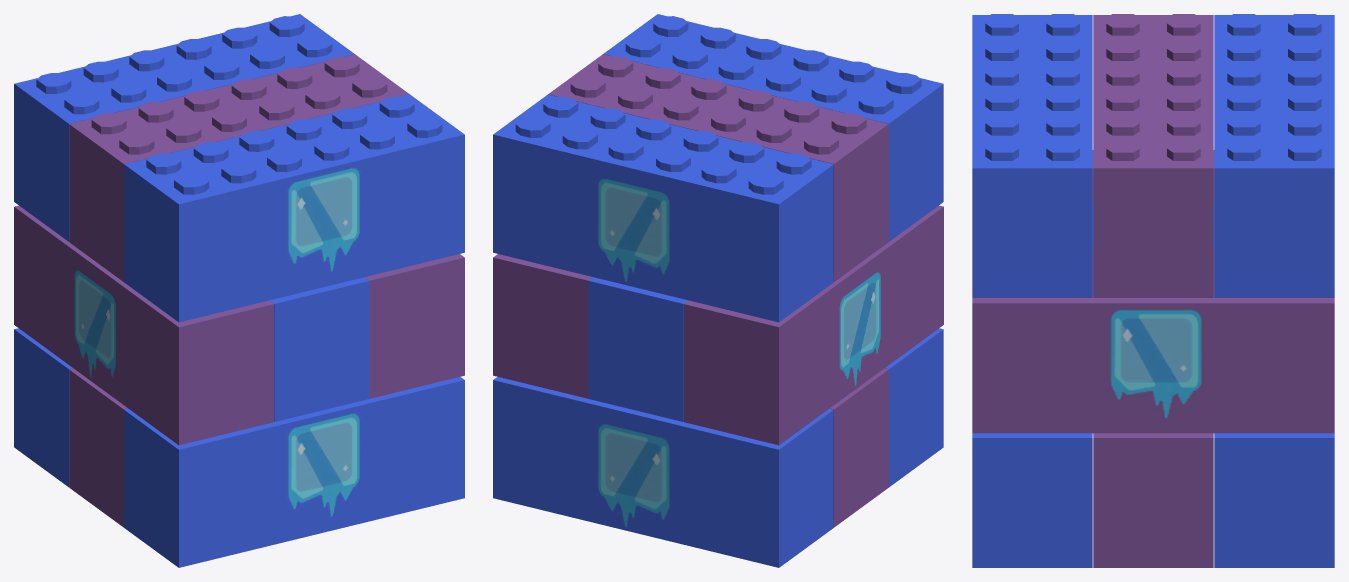
The model's file is InteractableBlock3x3Freeze.fbx.
3 views of the same model, side by side, from view 1: azimuth 30°, elevation 25°; view 2: azimuth 150°, elevation 25°; view 3: azimuth 270°, elevation 25° (orthographic). The views are drawn at different scales.
Visible parts, largest first — view 1: Cube.035; view 2: Cube.035; view 3: Cube.035.
Part boxes in pixels (x1,y1,x2,y2): Cube.035: (14, 14, 464, 567); Cube.035: (493, 14, 943, 567); Cube.035: (972, 14, 1334, 567).
Size of the model in its own units: 457 by 566 by 456.
